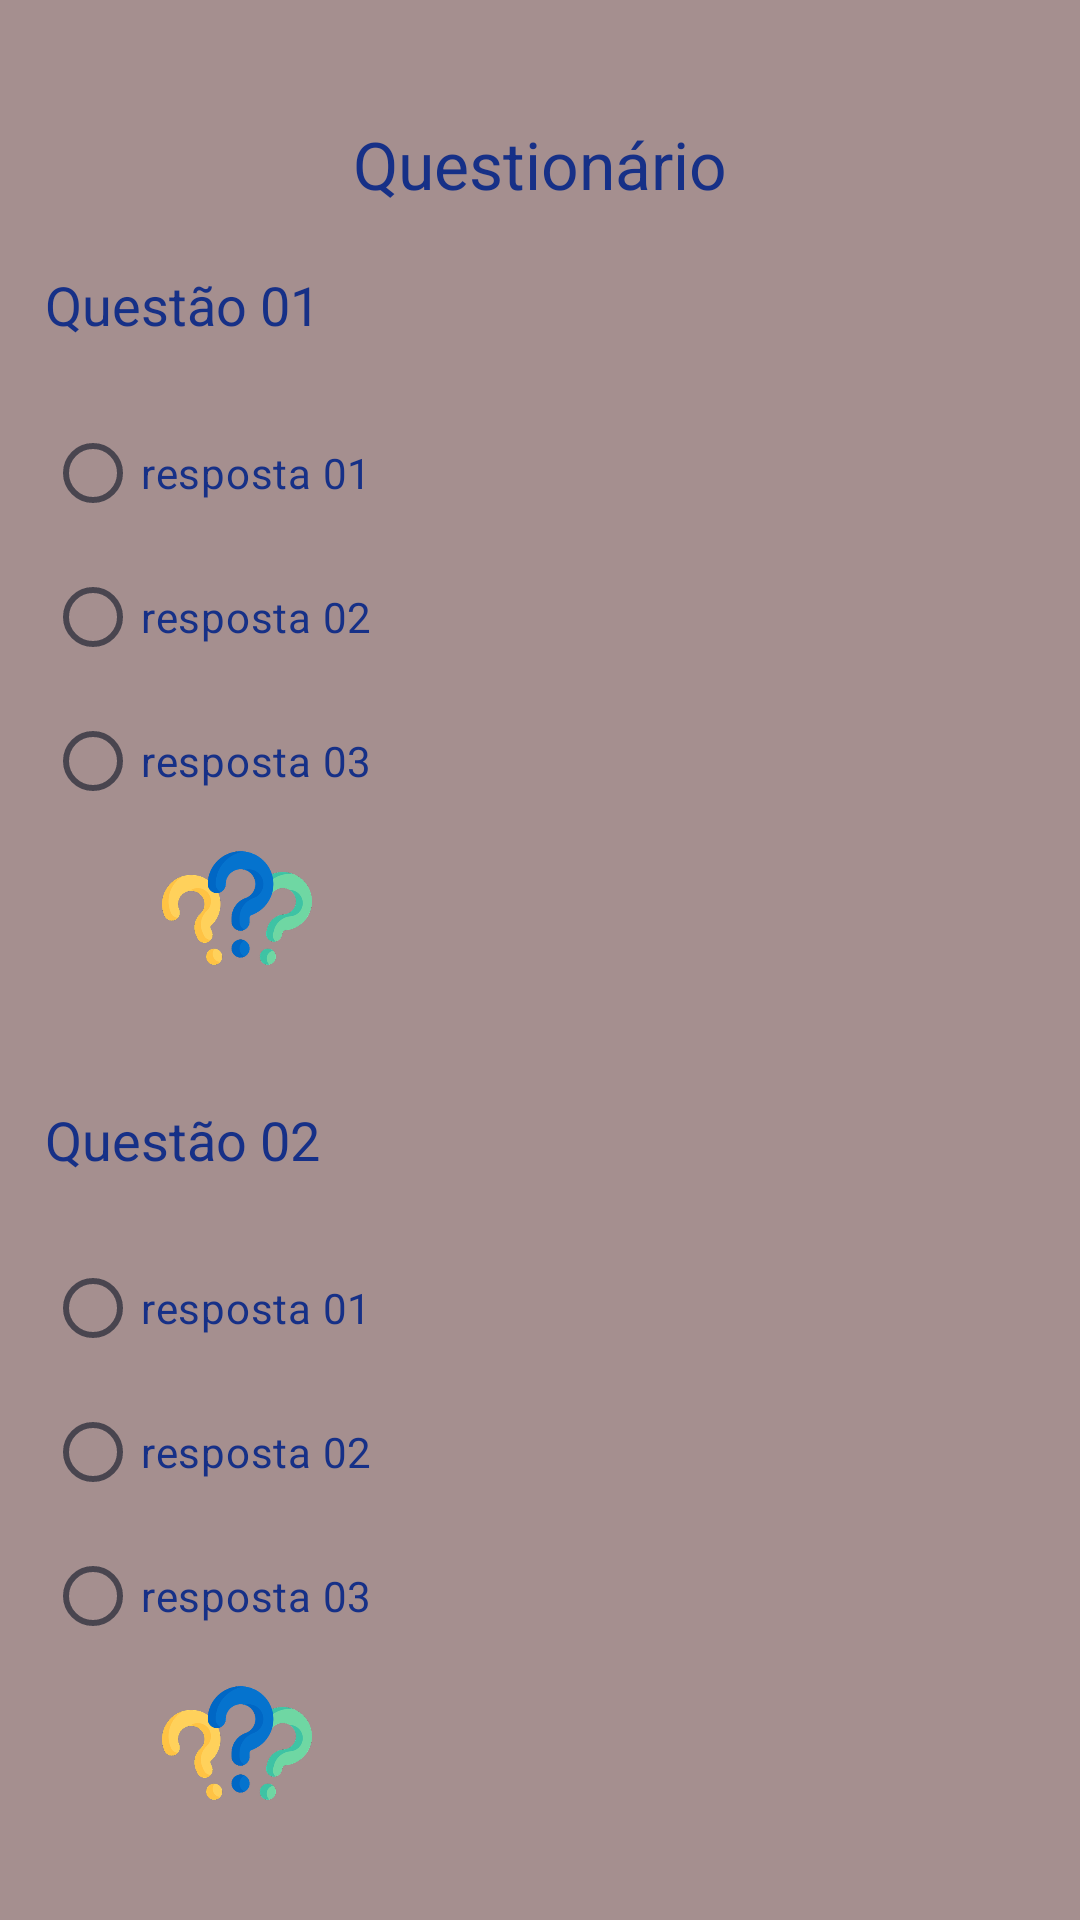

Icon click points for this 1080x1920 phone screenshot, format (x,y):
ponto de interrogacao: (237,908), (237,1743)
